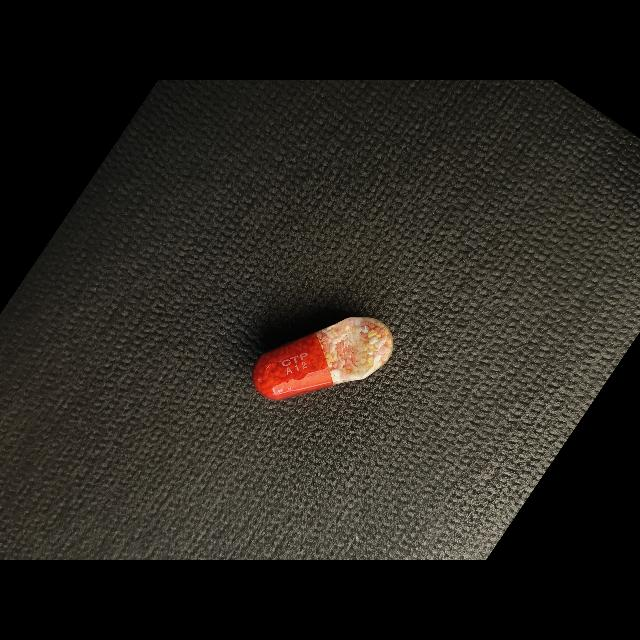Defective Capsule: (253, 317, 393, 400)
